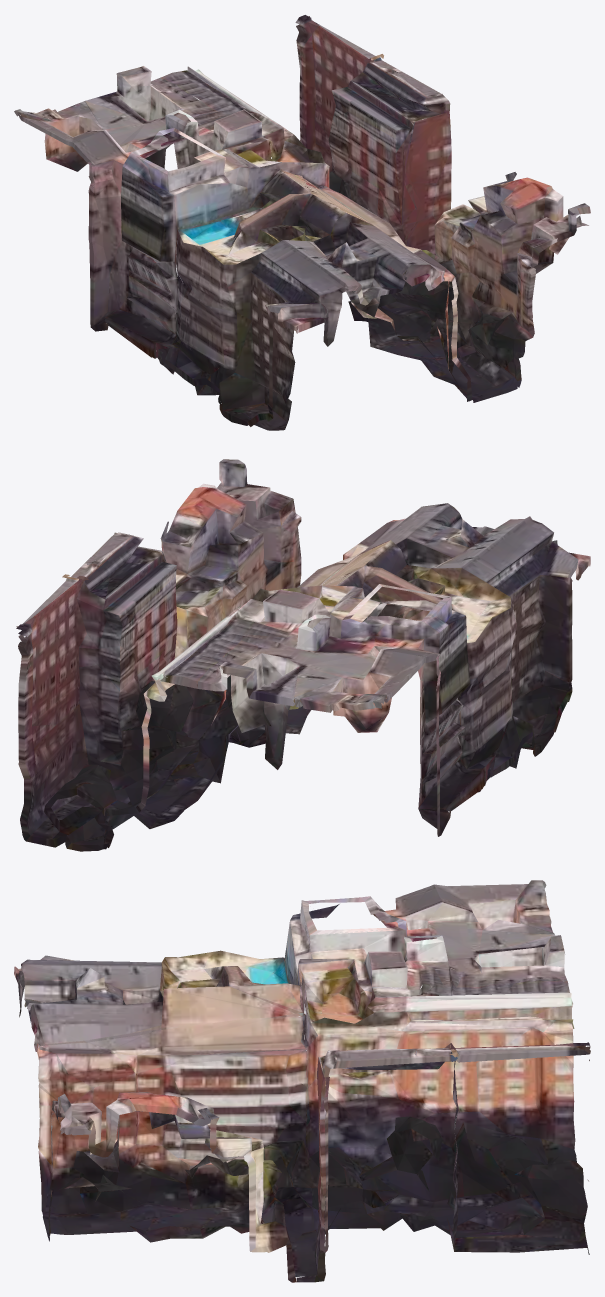
3 views of the same model, one above another, from view 1: azimuth 30°, elevation 25°; view 2: azimuth 150°, elevation 25°; view 3: azimuth 270°, elevation 25° (orthographic). The views are drawn at different scales.
Parts seen in each view (by area): view 1: Mesh_0; view 2: Mesh_0; view 3: Mesh_0.
Part boxes in pixels (x1,y1,x2,y2): Mesh_0: [14, 15, 590, 430]; Mesh_0: [16, 459, 590, 851]; Mesh_0: [14, 880, 590, 1282].
Size of the model in its own units: 66.6 by 35.27 by 82.61.
1 material, 1 textured.
